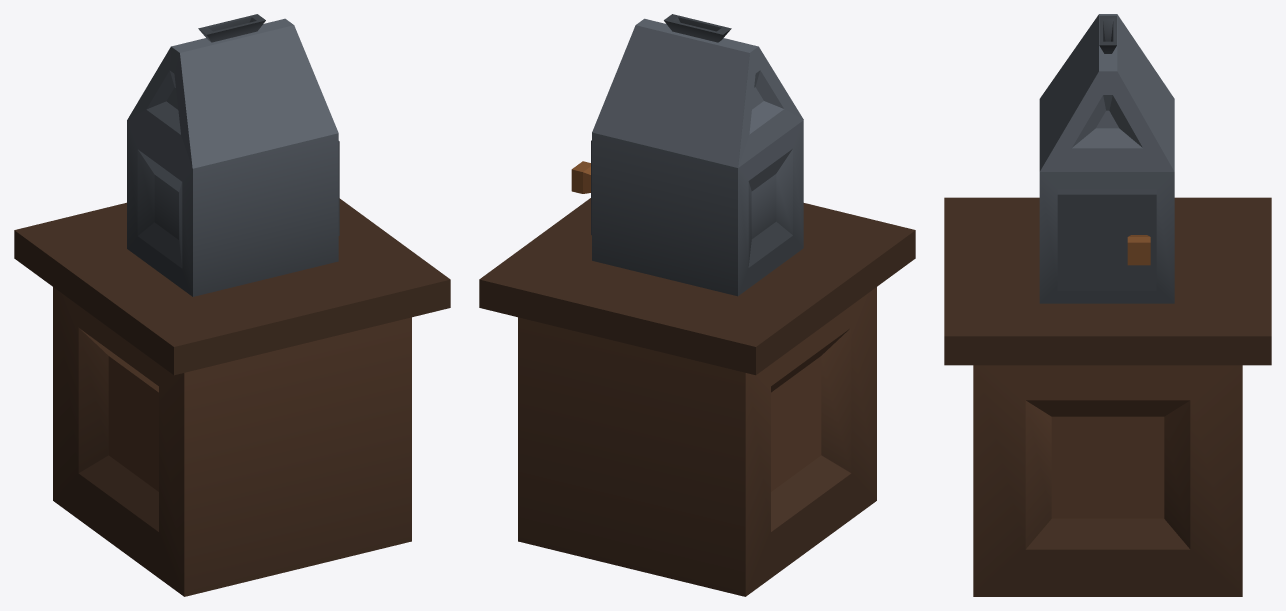
The model's file is copperlockbox.glb.
3 views of the same model, side by side, from view 1: azimuth 30°, elevation 25°; view 2: azimuth 150°, elevation 25°; view 3: azimuth 270°, elevation 25° (orthographic). The views are drawn at different scales.
Parts seen in each view (by area): view 1: Cube.002; view 2: Cube.002; view 3: Cube.002.
Part boxes in pixels (bbox=[...]): Cube.002: bbox=[14, 14, 450, 596]; Cube.002: bbox=[479, 14, 915, 596]; Cube.002: bbox=[944, 14, 1271, 596].
Size of the model in its own units: 0.7299 by 1.25 by 0.7299.
